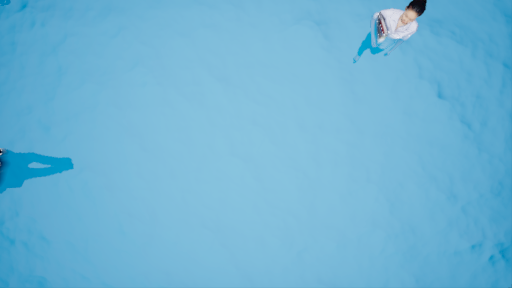person: (356, 2, 431, 68)
